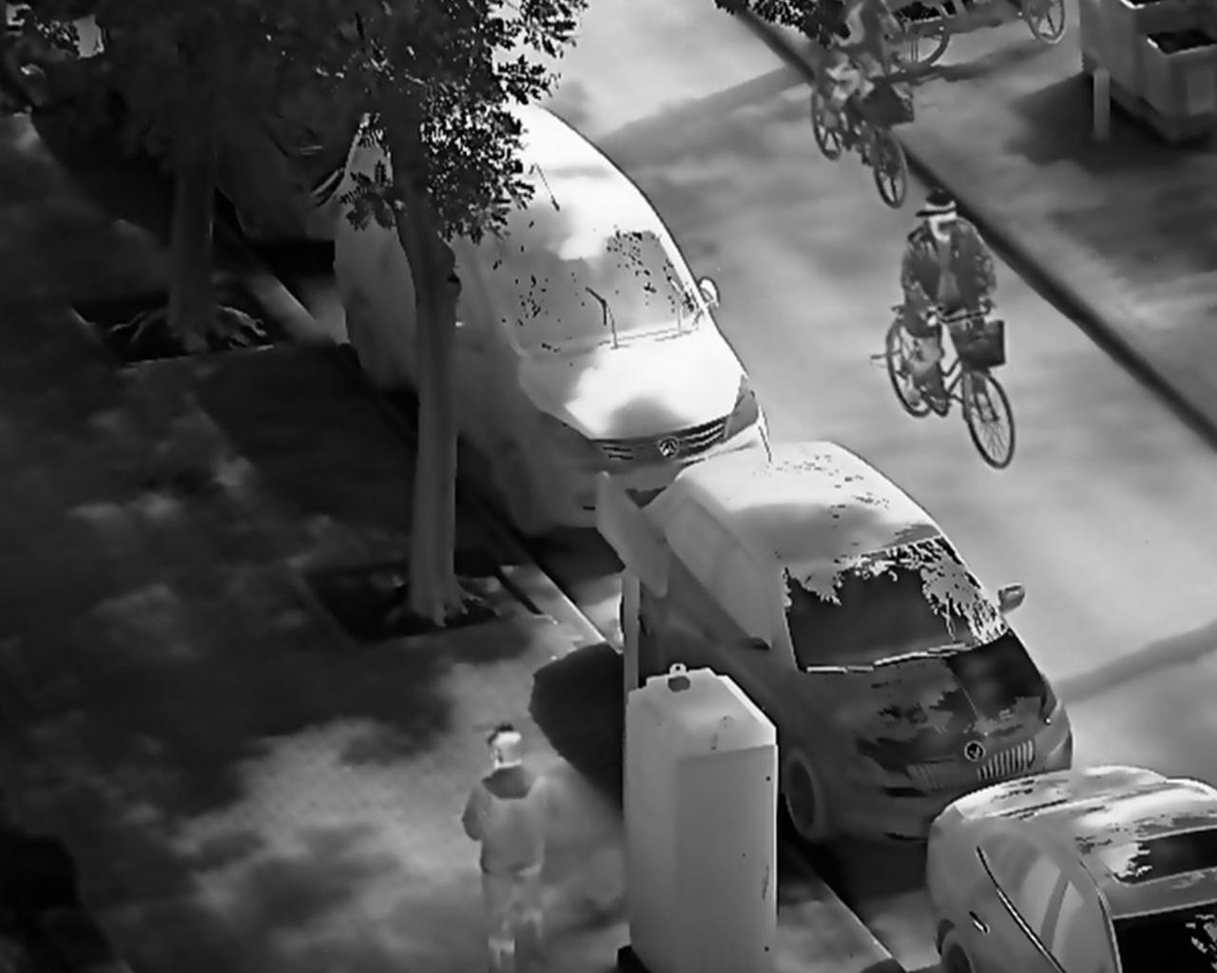person: (457, 719, 565, 973), (895, 187, 1000, 420)
